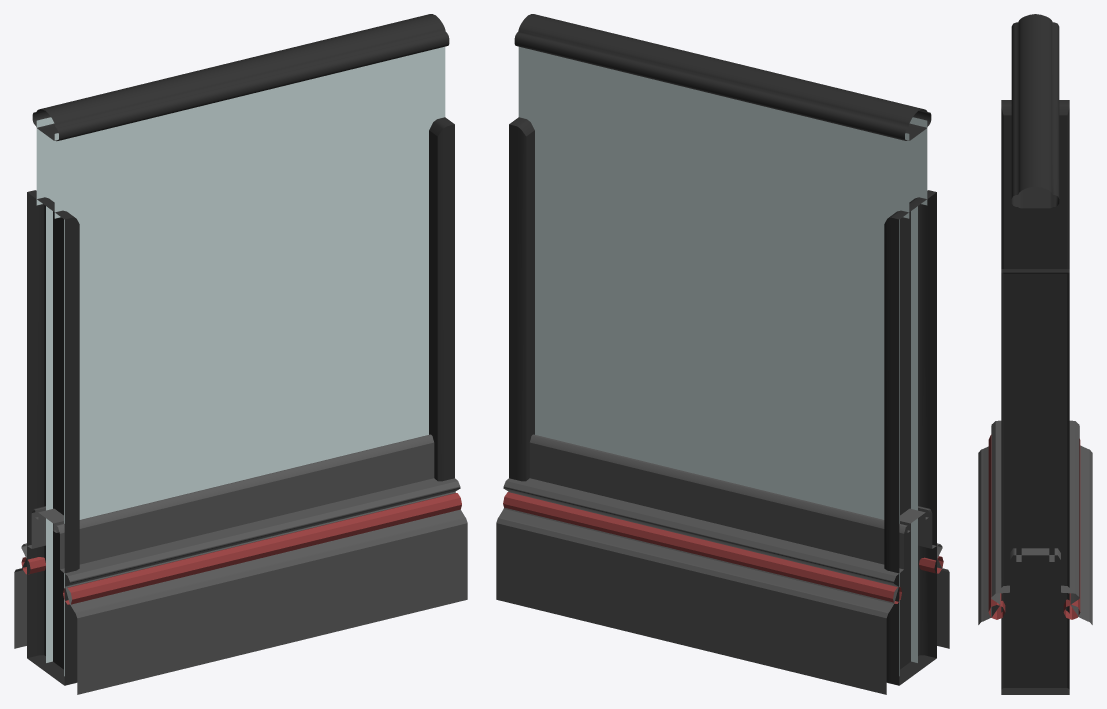
The model's file is Barrier.fbx.
The picture shows the model from 3 angles, left to right: view 1: azimuth 30°, elevation 25°; view 2: azimuth 150°, elevation 25°; view 3: azimuth 270°, elevation 25°; orthographic projection. The views are drawn at different scales.
Parts seen in each view (by area): view 1: Glass, BaseTrim, SideBars, Base, HandTrim, GlowRod; view 2: Glass, BaseTrim, SideBars, Base, HandTrim, GlowRod; view 3: SideBars, HandTrim, BaseTrim, GlowRod, Base.
Boxes of the visible parts, x1=… form: Glass: x1=36, y1=46, x2=445, y2=676; BaseTrim: x1=14, y1=478, x2=467, y2=694; SideBars: x1=27, y1=117, x2=454, y2=685; Base: x1=31, y1=434, x2=434, y2=569; HandTrim: x1=32, y1=14, x2=449, y2=141; GlowRod: x1=21, y1=493, x2=461, y2=604; Glass: x1=518, y1=46, x2=927, y2=676; BaseTrim: x1=496, y1=478, x2=949, y2=694; SideBars: x1=509, y1=117, x2=936, y2=685; Base: x1=529, y1=434, x2=932, y2=569; HandTrim: x1=514, y1=14, x2=931, y2=140; GlowRod: x1=503, y1=492, x2=943, y2=603; SideBars: x1=1001, y1=100, x2=1069, y2=694; HandTrim: x1=1011, y1=14, x2=1059, y2=208; BaseTrim: x1=978, y1=420, x2=1092, y2=624; GlowRod: x1=988, y1=435, x2=1080, y2=619; Base: x1=1010, y1=548, x2=1060, y2=561.
Size of the model in its own units: 3 by 4.12 by 0.8378.
